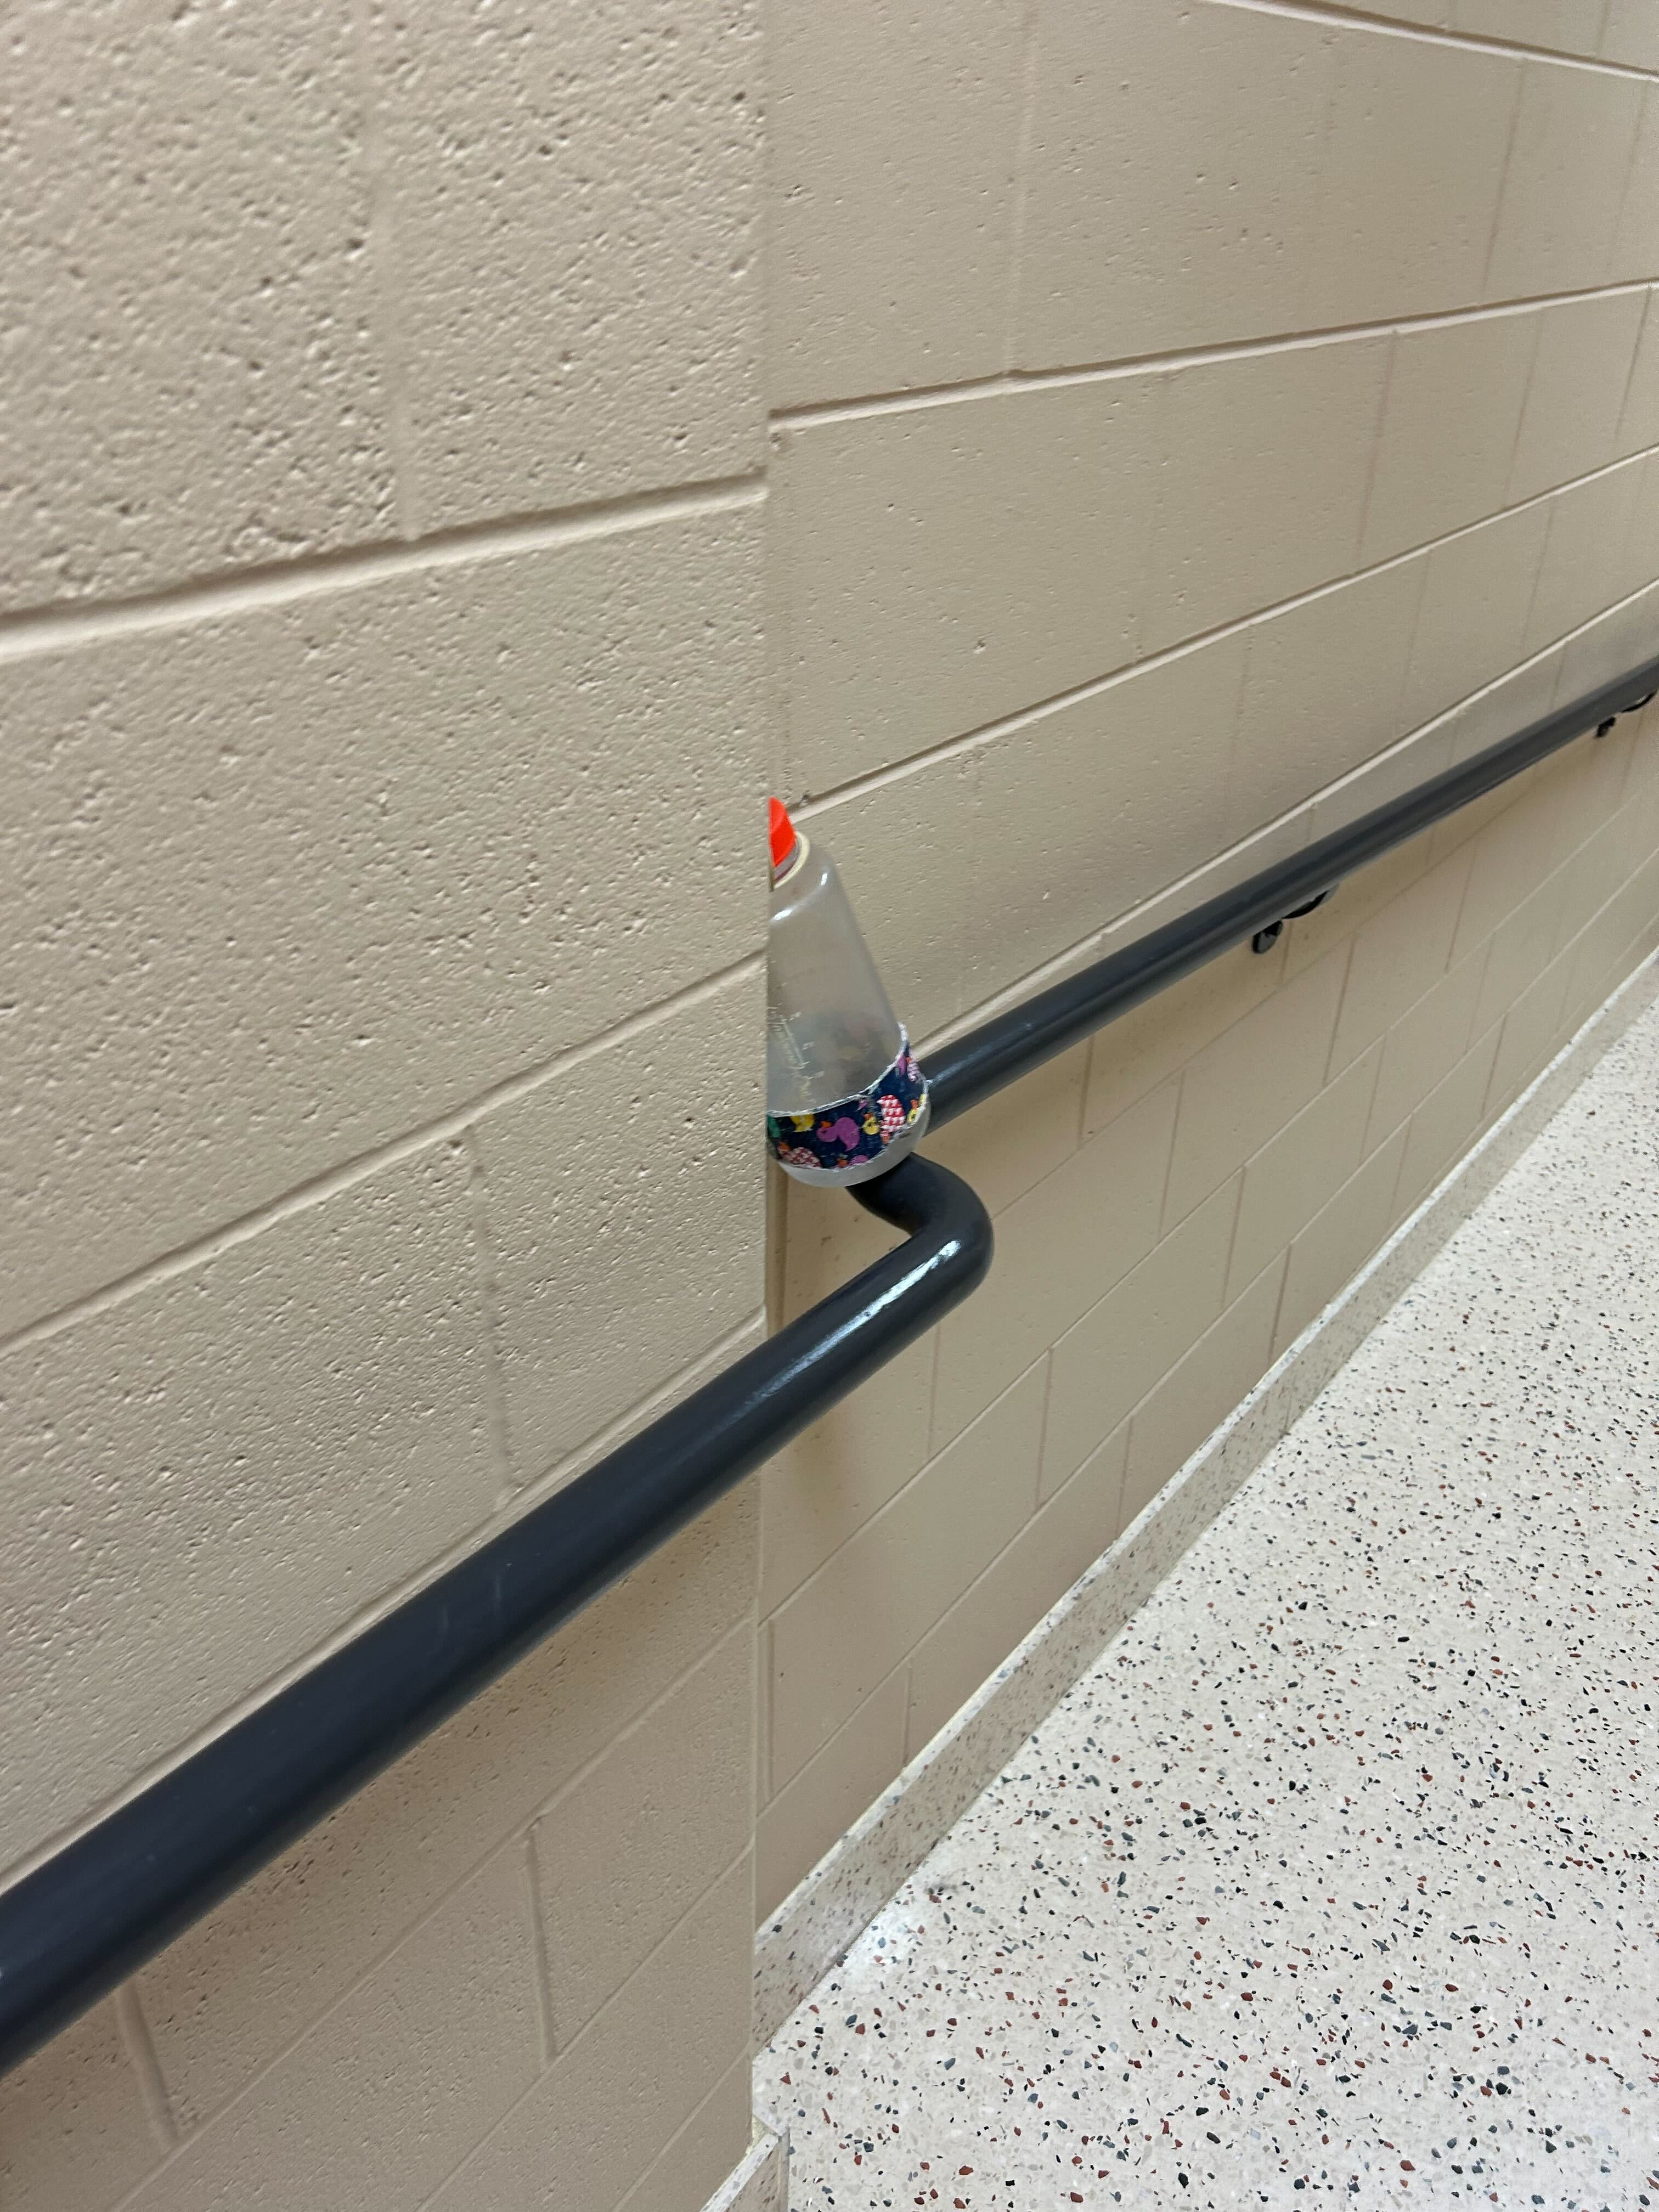bottle: (763, 786, 932, 1195)
